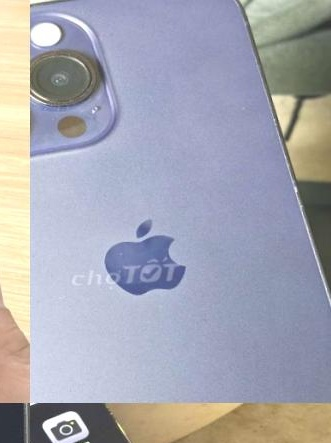scratch: (30, 44, 109, 126), (97, 241, 135, 301), (317, 357, 331, 403)
